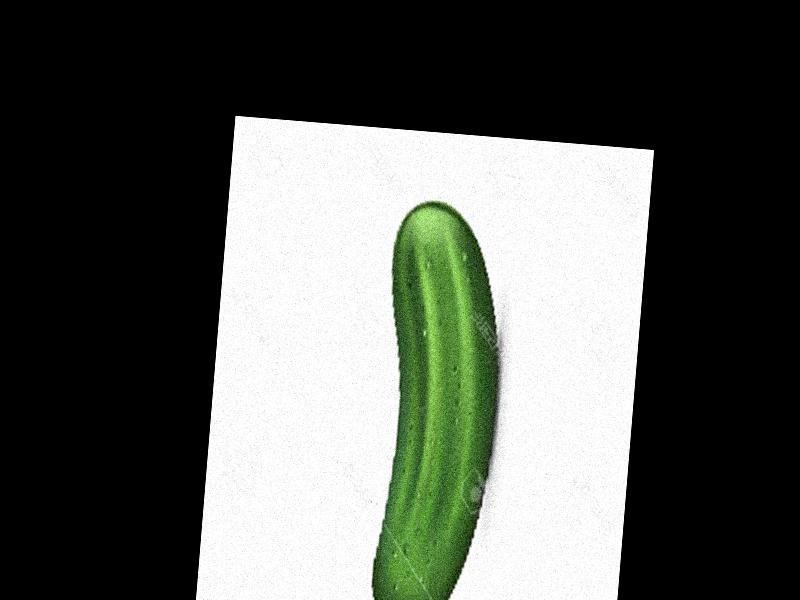Cucumber: (361, 198, 514, 600)
